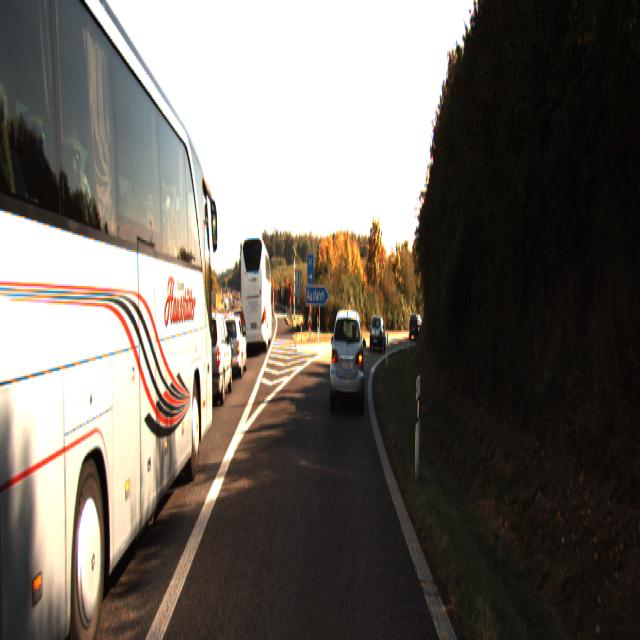Car: (190, 310, 233, 407), (329, 306, 365, 412), (218, 313, 247, 378), (369, 315, 386, 353), (409, 313, 426, 340)
Misc: (0, 0, 215, 638), (240, 230, 272, 354)
